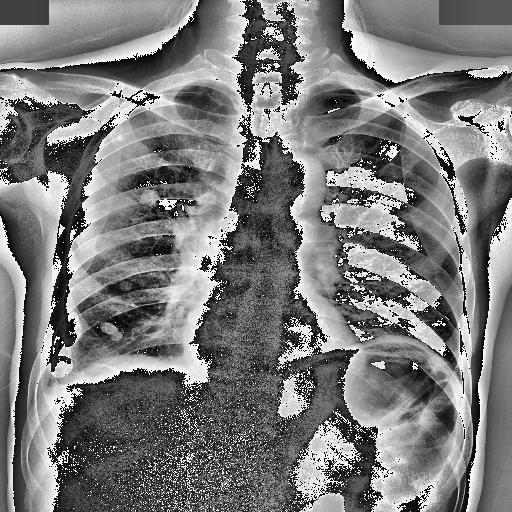10- Pleural effusion: (30, 348, 88, 408)
11- Pleural thickening: (30, 348, 88, 408), (34, 371, 68, 402)
2- Calcification: (50, 306, 81, 378)
8- Nodule-Mass: (58, 312, 82, 345), (60, 308, 80, 347), (100, 322, 124, 342), (98, 322, 124, 340), (50, 358, 72, 378), (140, 189, 162, 209), (52, 358, 74, 378), (138, 188, 161, 206), (142, 188, 161, 208), (115, 124, 136, 141), (98, 324, 120, 340), (186, 310, 201, 326), (188, 310, 202, 326), (118, 280, 134, 292), (120, 280, 134, 292), (118, 281, 134, 291), (362, 310, 374, 318)
9- Other lesion: (280, 344, 464, 395), (356, 324, 466, 386)
